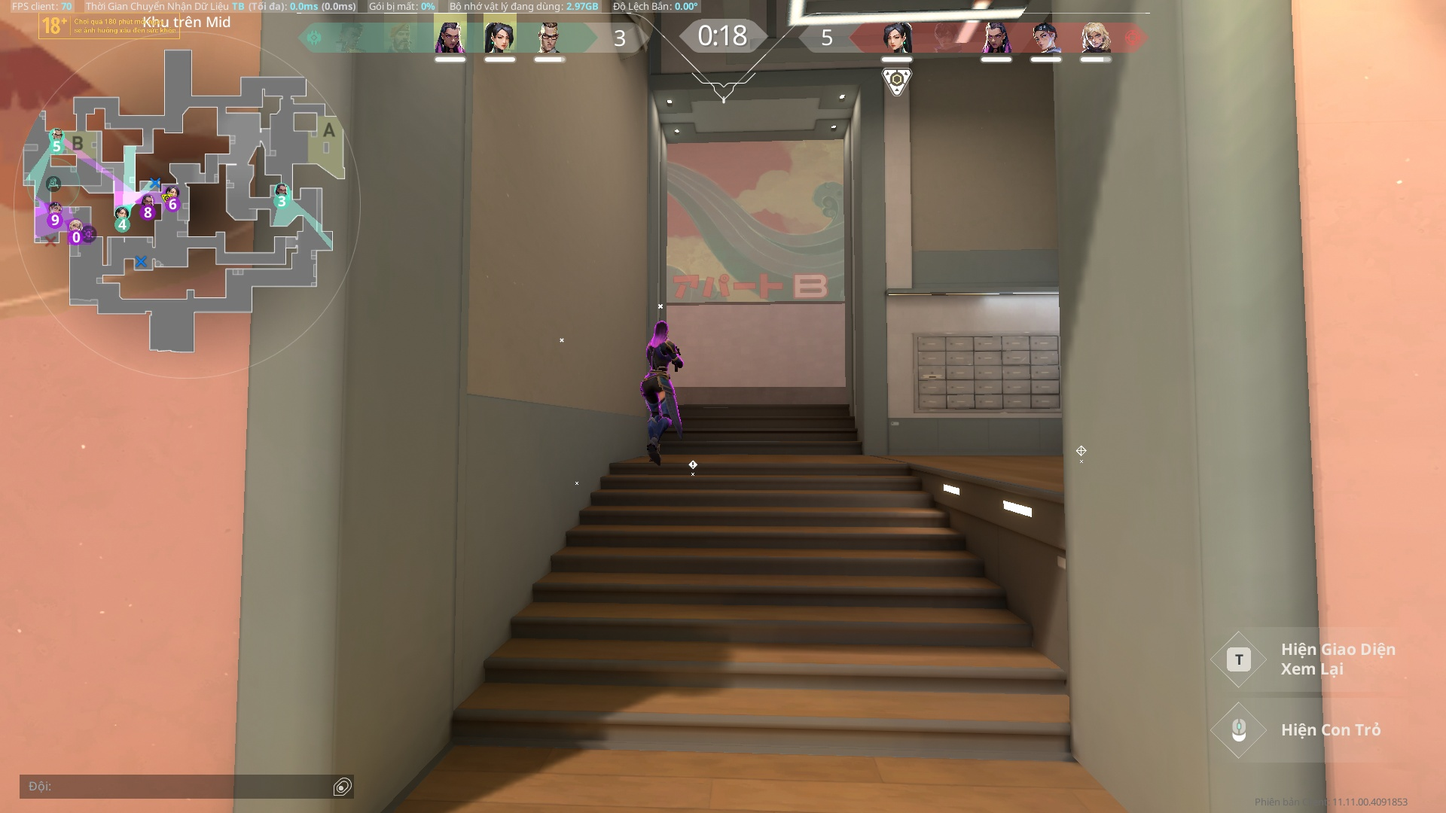body: (645, 338, 674, 376)
head: (653, 319, 667, 335)
